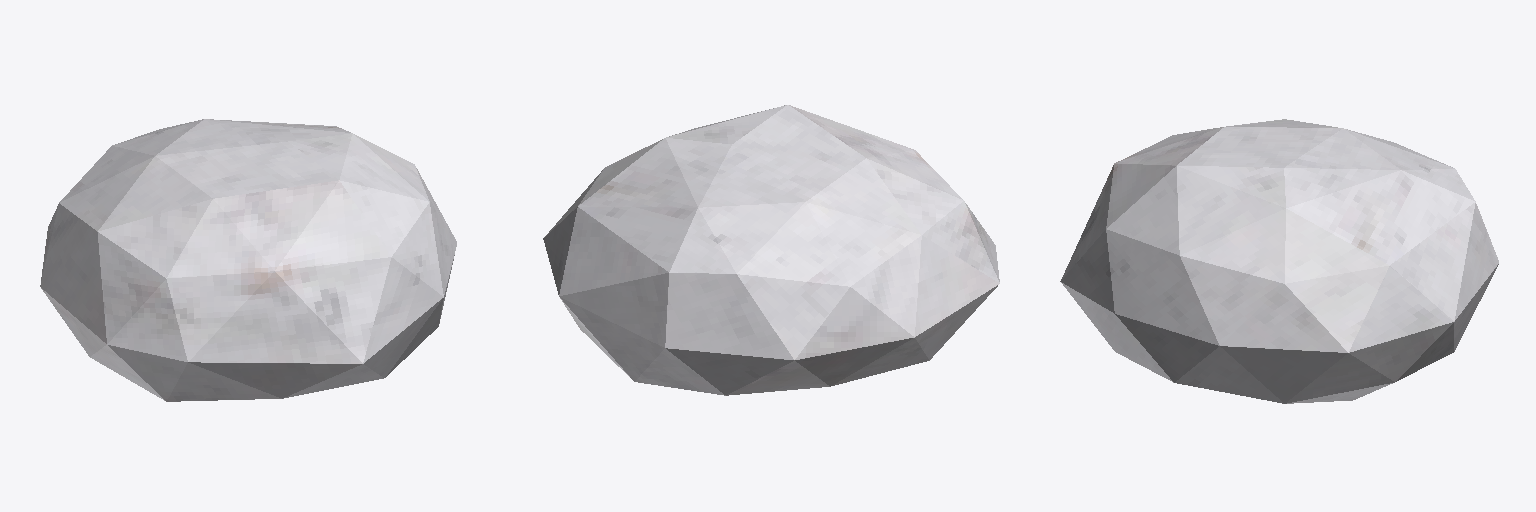
3 renders of one model, left to right at view 1: azimuth 30°, elevation 25°; view 2: azimuth 150°, elevation 25°; view 3: azimuth 270°, elevation 25°, orthographic.
Parts seen in each view (by area): view 1: Icosphere; view 2: Icosphere; view 3: Icosphere.
Boxes of the visible parts, box(x1,y1,x2,y2) form: Icosphere: box(40, 119, 456, 401); Icosphere: box(543, 105, 999, 395); Icosphere: box(1060, 119, 1498, 403).
Size of the model in its own units: 3.05 by 1.62 by 3.04.
Materials: 1 (1 with a texture image).